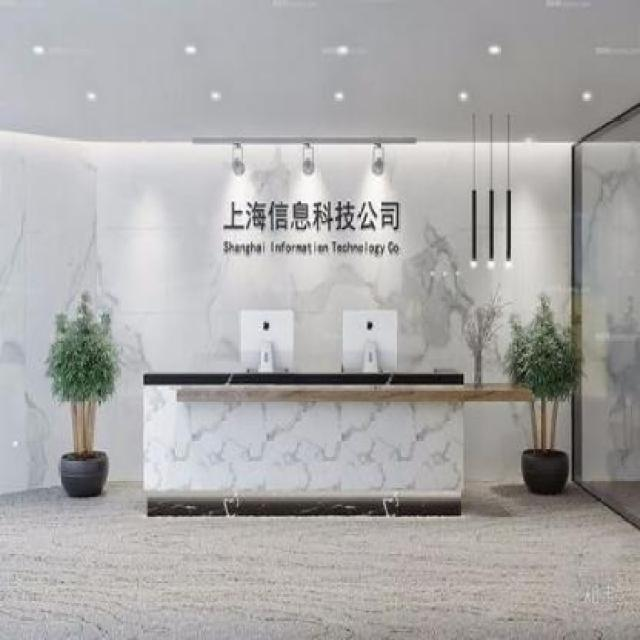frontdesk: (137, 358, 475, 531)
